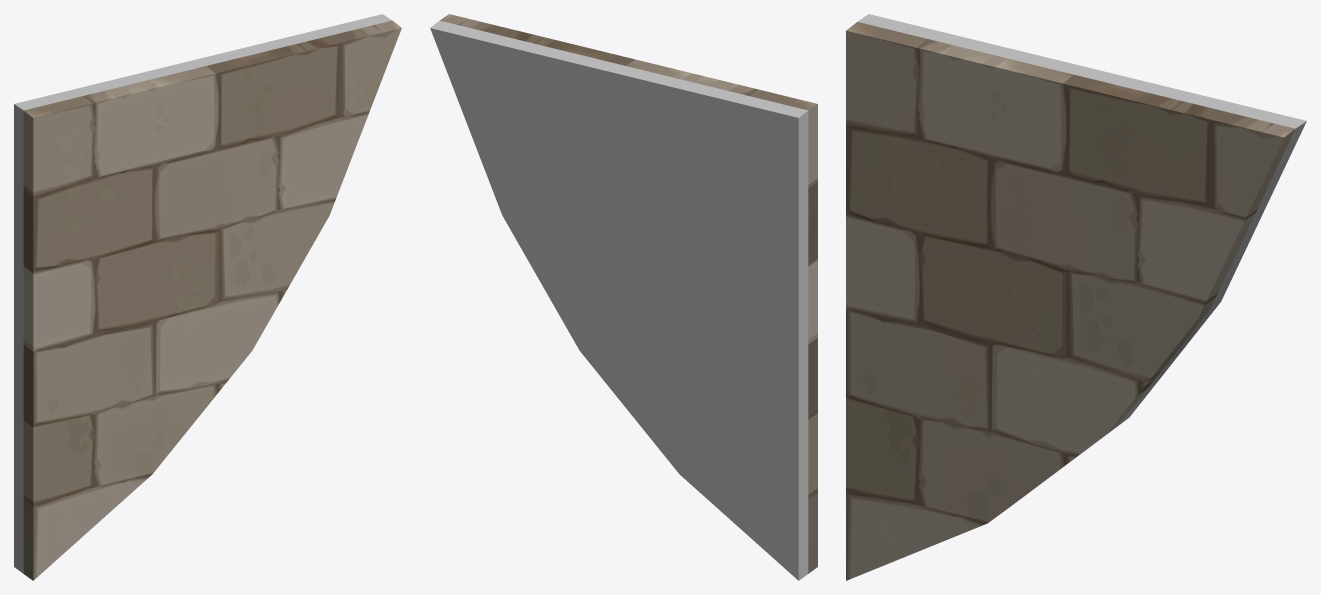
The model's file is SM_Bld_Wall_End_Concave_Inverted_01.fbx.
The picture shows the model from 3 angles, left to right: view 1: azimuth 30°, elevation 25°; view 2: azimuth 150°, elevation 25°; view 3: azimuth 330°, elevation 25°; orthographic projection. The views are drawn at different scales.
Parts seen in each view (by area): view 1: SM_Bld_Wall_End_Concave_Inverted_01; view 2: SM_Bld_Wall_End_Concave_Inverted_01; view 3: SM_Bld_Wall_End_Concave_Inverted_01.
Boxes of the visible parts, x1,y1,x2,y2 form: SM_Bld_Wall_End_Concave_Inverted_01: (14, 14, 401, 580); SM_Bld_Wall_End_Concave_Inverted_01: (430, 14, 817, 580); SM_Bld_Wall_End_Concave_Inverted_01: (846, 14, 1306, 580).
Size of the model in its own units: 250 by 300 by 22.5.
